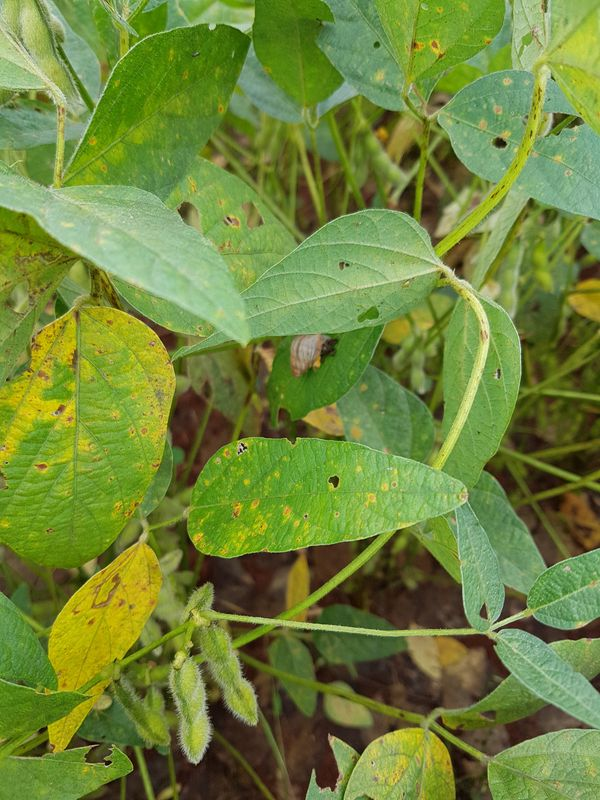Gastropoda: (278, 317, 344, 388)
